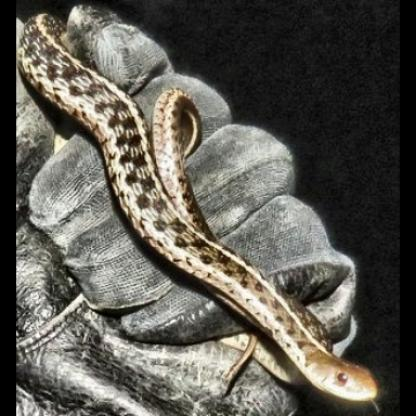Snake: (18, 6, 389, 416)
